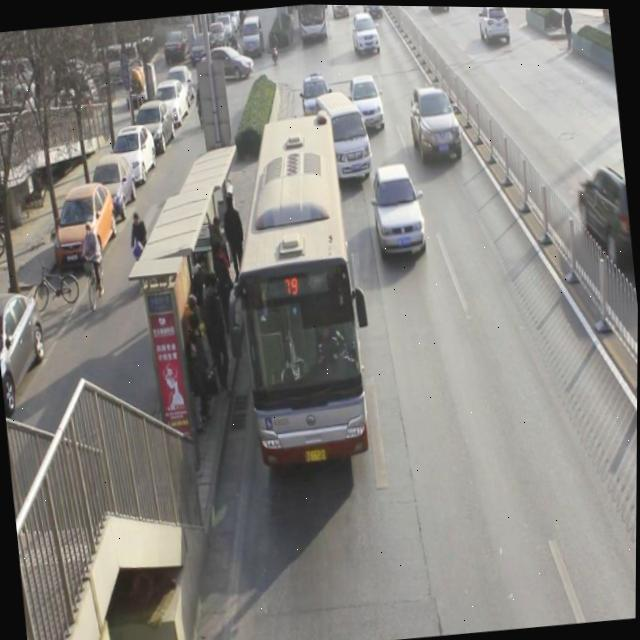car: (573, 149, 635, 274), (369, 164, 431, 262), (408, 83, 467, 169), (345, 71, 389, 138), (299, 69, 332, 122), (477, 6, 514, 49), (350, 10, 382, 57), (361, 4, 384, 18), (425, 5, 451, 16), (329, 4, 348, 19)
truck: (313, 87, 374, 184)
van: (222, 113, 376, 472), (298, 3, 330, 42)
